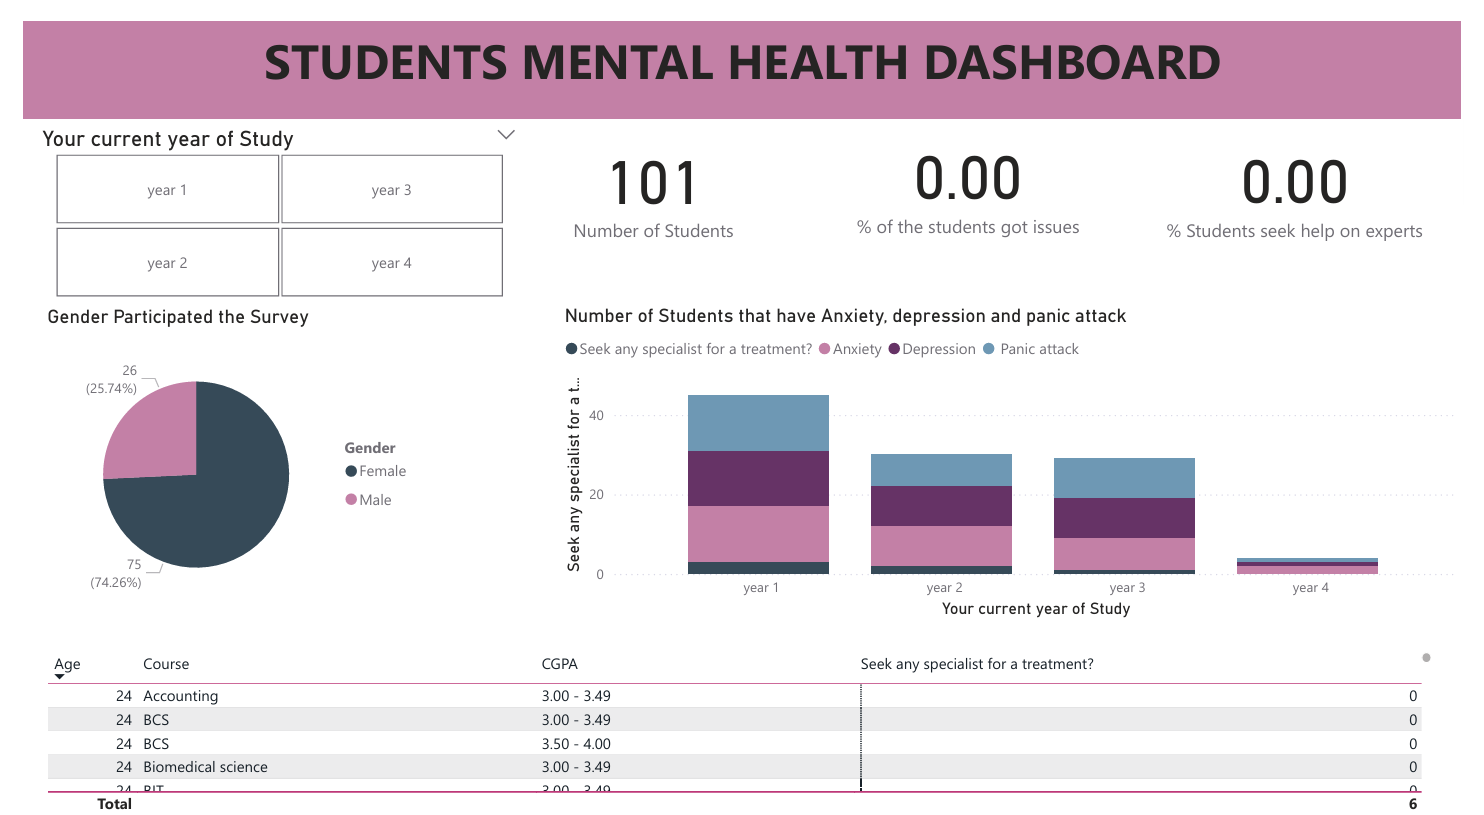

The page's visual inventory and layout, read from the dashboard file:
{"tool":"powerbi","page":{"name":"Page 1","canvas":[1280,720],"ordinal":0},"visuals":[{"type":"pieChart","title":"Gender Participated the Survey","fields":{"Category":["Student Mental health.Choose your gender"],"Y":["CountNonNull(Student Mental health.Choose your gender)"]},"box":[15.6,251.9,340.3,281.8],"z":0},{"type":"columnChart","title":"Number of Students that have Anxiety, depression and panic attack","fields":{"Category":["Student Mental health.Your current year of Study"],"Y":["Sum(Student Mental health.Number of Students  seek any specialist for a treatment?)","Sum(Student Mental health.Number of Students have anxiety)","Sum(Student Mental health.Number of Students have Depression)","Sum(Student Mental health.Number of Students have Panic attack)"]},"box":[475.7,251.4,804.3,282.9],"z":1000},{"type":"card","fields":{"Values":["CountNonNull(Student Mental health.Choose your gender)"]},"box":[450,87.1,220,118.6],"z":2000},{"type":"slicer","fields":{"Values":["Student Mental health.Your current year of Study"]},"box":[2.9,87.1,447.1,164.3],"z":3000},{"type":"card","fields":{"Values":["Student Mental health.MentalHealthStatistics"]},"box":[702.9,85.7,274.3,112.9],"z":4000},{"type":"tableEx","fields":{"Values":["Student Mental health.Age","Student Mental health.What is your course?","Student Mental health.What is your CGPA?","Sum(Student Mental health.Number of Students  seek any specialist for a treatment?)"]},"box":[15.6,554.5,1241.6,164.9],"z":5000},{"type":"card","fields":{"Values":["Student Mental health.% Students seek help on experts"]},"box":[1004.3,92.9,252.9,105.7],"z":6000},{"type":"textbox","box":[0,0,1279.2,87],"z":7000}]}

Visuals, with their boxes in screenshot pixels (x1, y1, x2, y2), scaled from the page's 1280x720 canvas onto the 1484x815 screenshot:
"Gender Participated the Survey" pieChart: 18:285:413:604
"Number of Students that have Anxiety, depression and panic attack" columnChart: 552:285:1483:605
card - CountNonNull(Student Mental health.Choose your gender): 522:99:777:233
slicer - Student Mental health.Your current year of Study: 3:99:522:285
card - Student Mental health.MentalHealthStatistics: 815:97:1133:225
tableEx - Student Mental health.Age x Student Mental health.What is your course?: 18:628:1458:814
card - Student Mental health.% Students seek help on experts: 1164:105:1458:225
textbox: 0:0:1483:98
